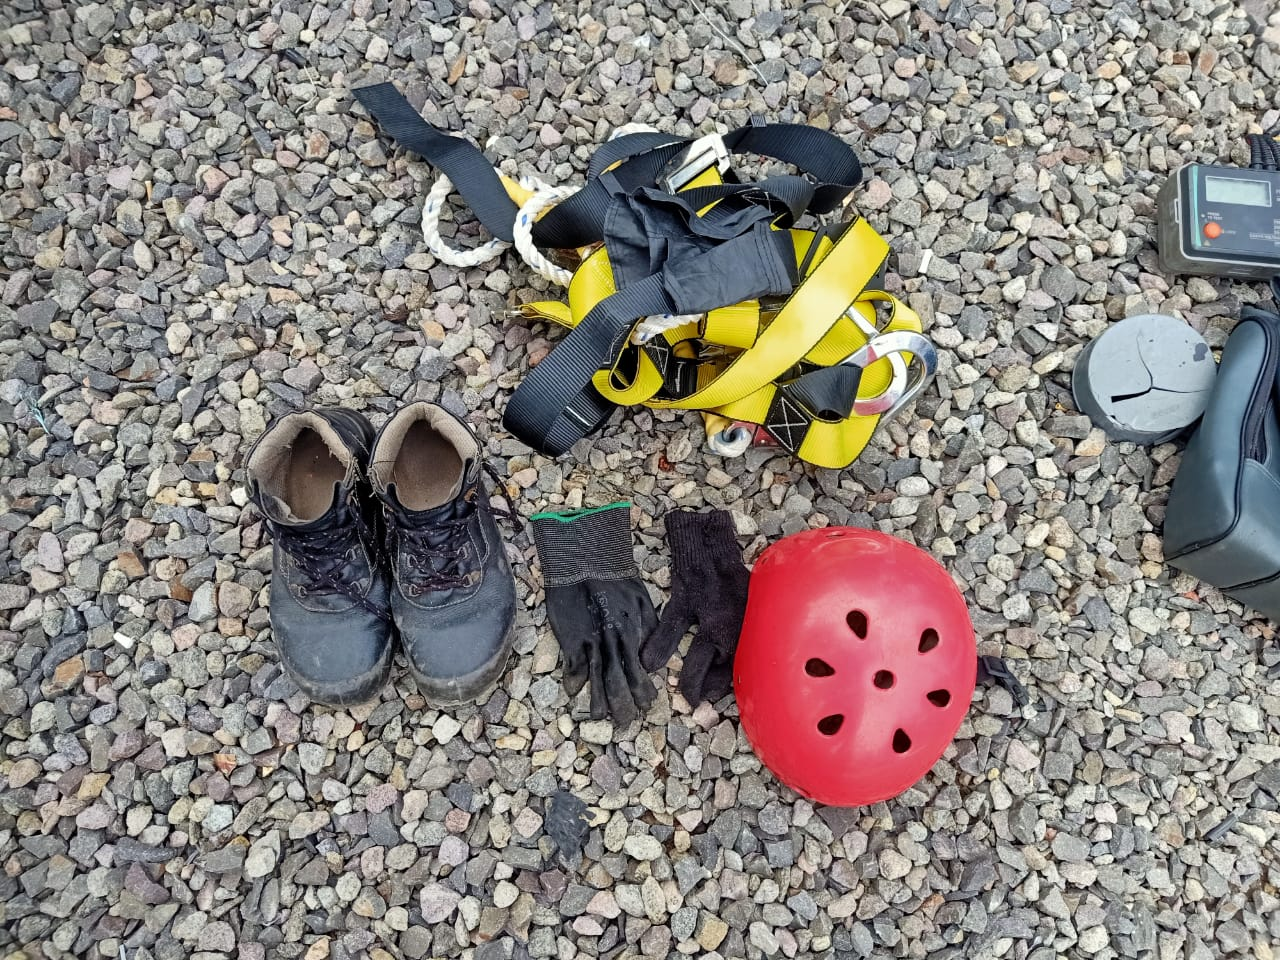HELM: (753, 536, 964, 794)
SARUNG_TANGAN: (546, 555, 657, 713)
SEPATU: (269, 400, 492, 701)
TAMBANG_SLING: (531, 152, 880, 447)
